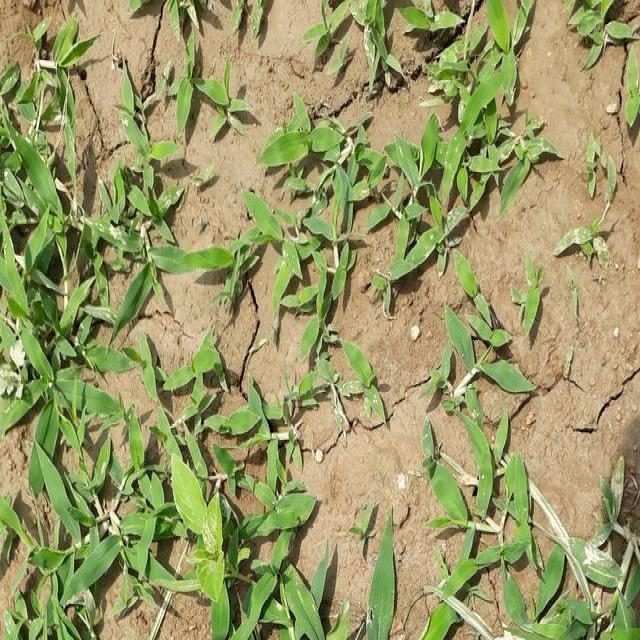weed: (3, 51, 265, 640), (283, 94, 531, 306), (419, 371, 609, 640)
